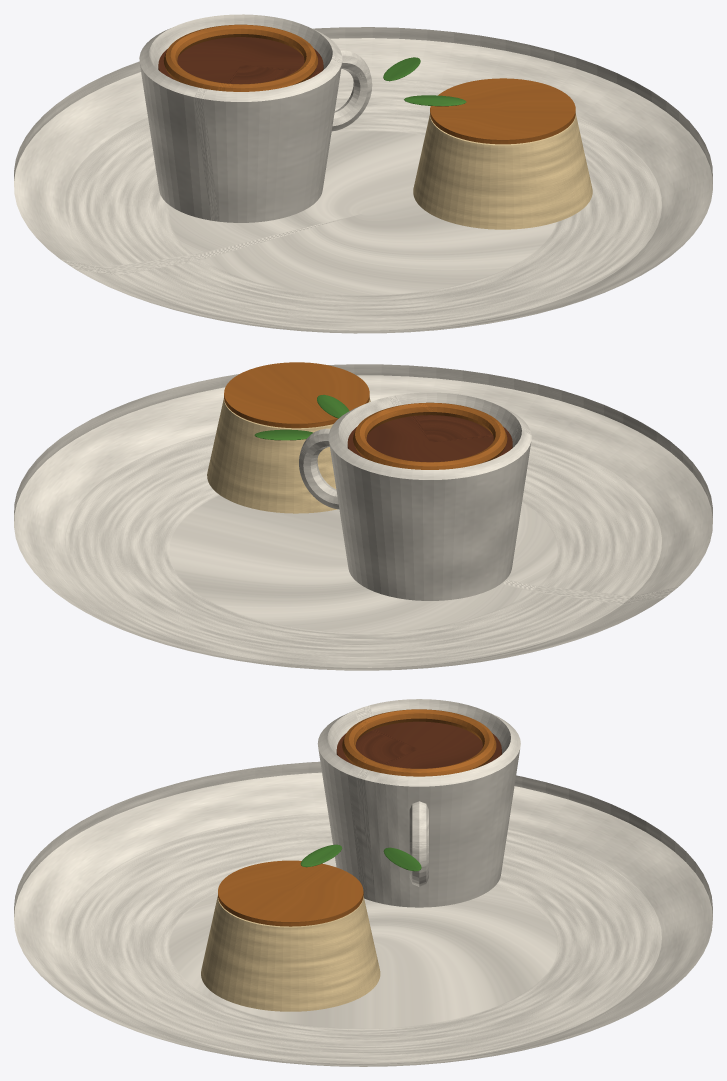
The model's file is dessert.glb.
3 views of the same model, one above another, from view 1: azimuth 30°, elevation 25°; view 2: azimuth 150°, elevation 25°; view 3: azimuth 270°, elevation 25° (orthographic).
Parts seen in each view (by area): view 1: ceramic, flan, caramel, coffee, leaf; view 2: ceramic, caramel, flan, coffee, leaf; view 3: ceramic, flan, caramel, coffee, leaf.
Boxes of the visible parts, x1,y1,x2,y2 form: ceramic: (14,14,712,333); flan: (413,113,592,229); caramel: (163,24,575,144); coffee: (158,37,323,84); leaf: (383,57,466,106); ceramic: (14,364,712,670); caramel: (224,362,507,469); flan: (207,398,370,513); coffee: (347,415,512,462); leaf: (254,394,349,440); ceramic: (14,699,712,1066); flan: (201,896,380,1011); caramel: (218,709,496,926); coffee: (336,721,501,768); leaf: (300,844,421,871).
Size of the model in its own units: 2.88 by 0.7395 by 2.88.
Materials: 5 (5 with a texture image).
